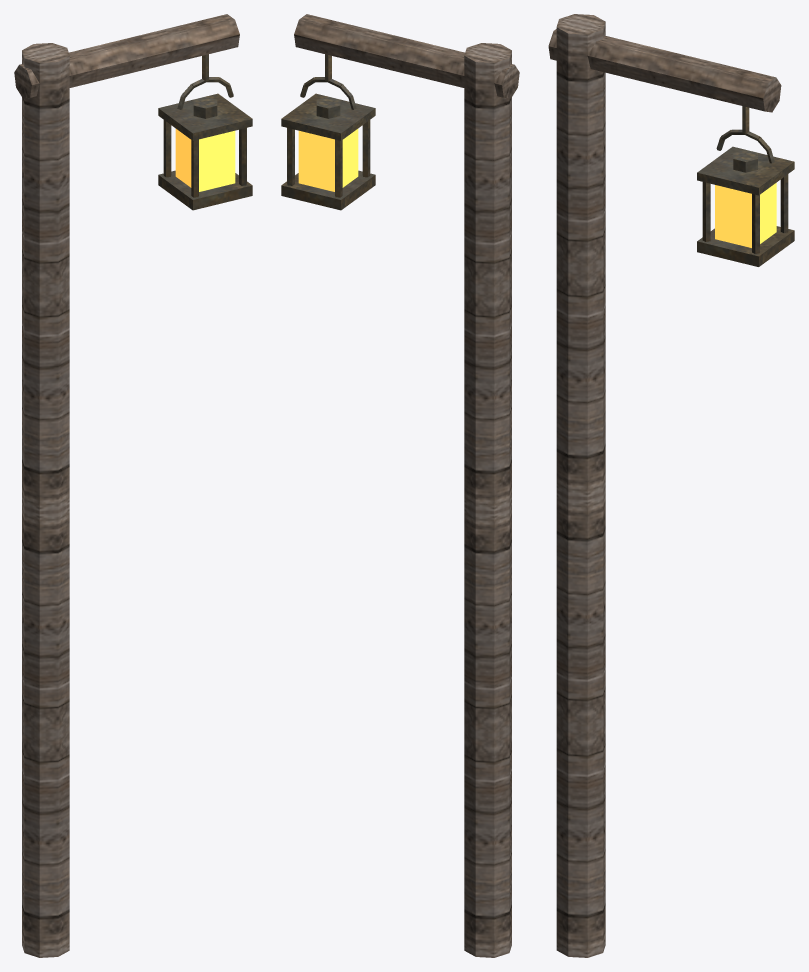
File: street_lamp_r2.glb
3 views of the same model, side by side, from view 1: azimuth 30°, elevation 25°; view 2: azimuth 150°, elevation 25°; view 3: azimuth 330°, elevation 25° (orthographic). The views are drawn at different scales.
Size of the model in its own units: 0.745 by 3 by 0.21.
Materials: 3 (2 with a texture image).
